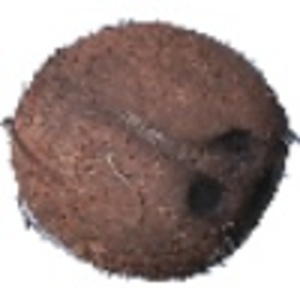coco: (5, 21, 300, 282)
